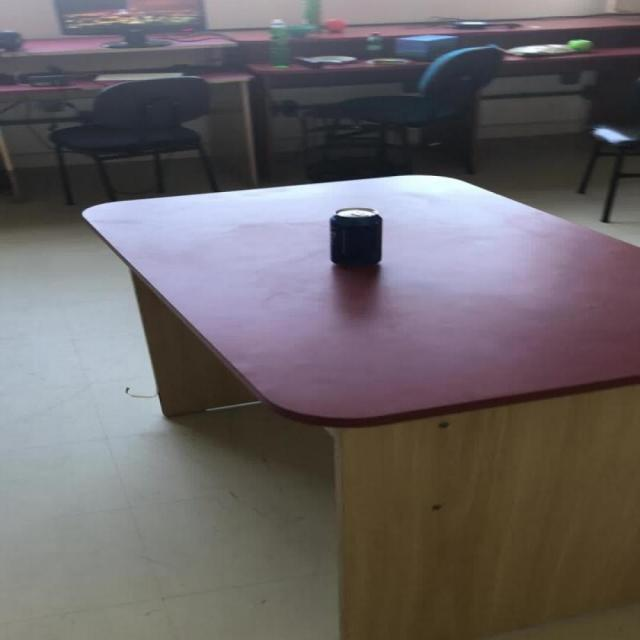Tonic: (327, 207, 382, 264), (267, 19, 290, 68), (364, 31, 383, 58)
